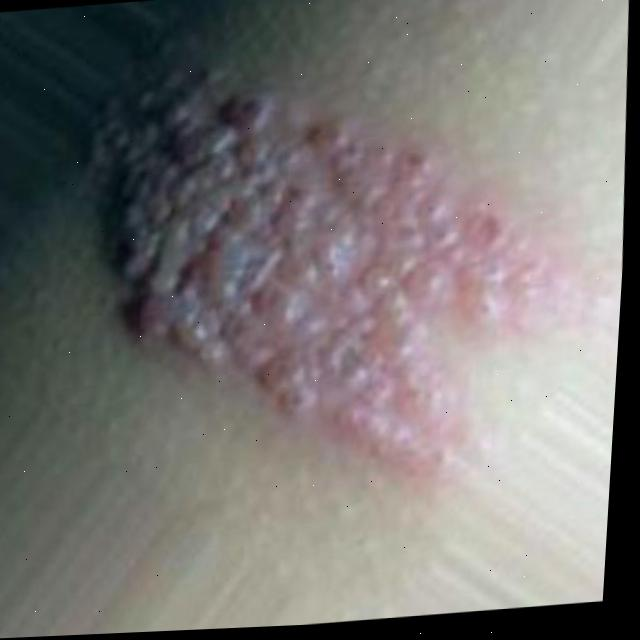Shingles: (74, 43, 576, 491)
